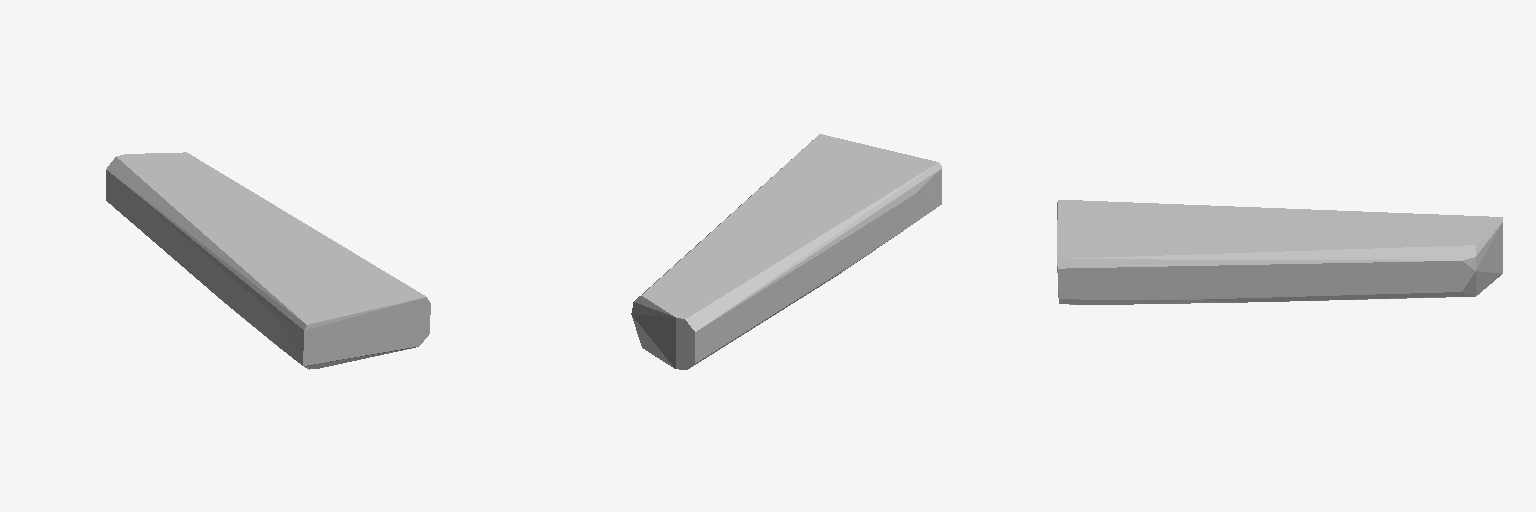
File: solo_lower_leg_v2_right_side_collision_7.obj
3 renders of one model, left to right at view 1: azimuth 30°, elevation 25°; view 2: azimuth 150°, elevation 25°; view 3: azimuth 270°, elevation 25°, orthographic.
Bounding box in the file's own units: 0.0256 × 0.0104 × 0.0777.